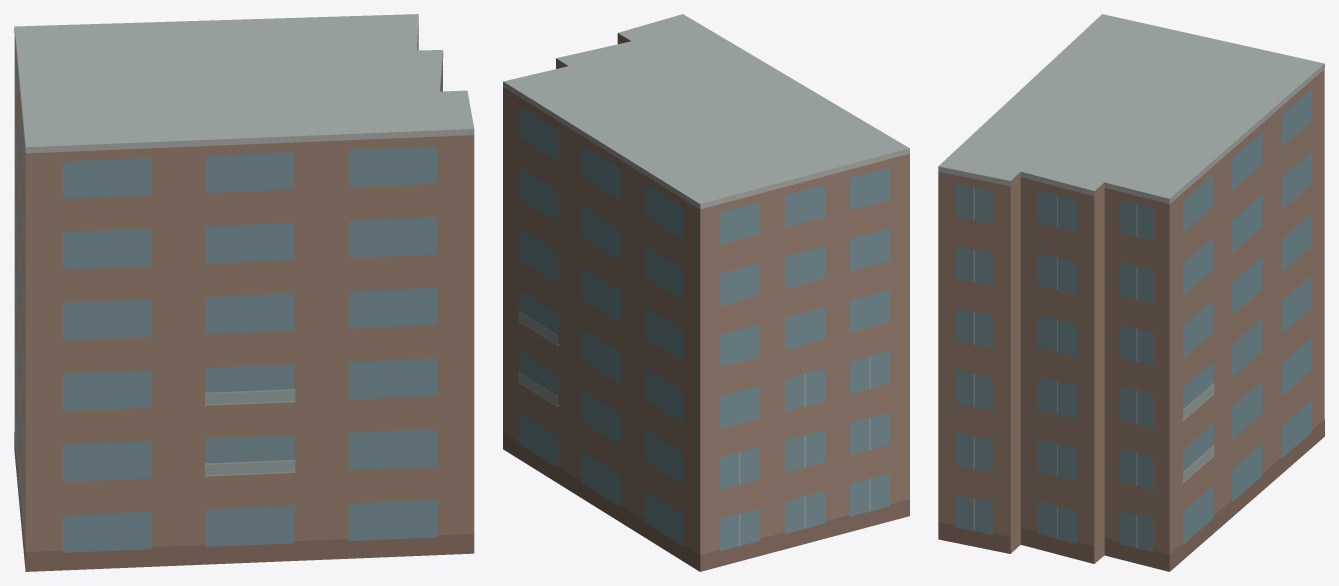
File: survey-upis-32913458.glb
The picture shows the model from 3 angles, left to right: view 1: azimuth 30°, elevation 25°; view 2: azimuth 150°, elevation 25°; view 3: azimuth 270°, elevation 25°; orthographic projection. The views are drawn at different scales.
Parts seen in each view (by area): view 1: survey-upis-32913458.tmp; view 2: survey-upis-32913458.tmp; view 3: survey-upis-32913458.tmp.
Part boxes in pixels (x1,y1,x2,y2): survey-upis-32913458.tmp: (14,14,474,571); survey-upis-32913458.tmp: (503,14,909,571); survey-upis-32913458.tmp: (938,14,1324,571).
Bounding box in the file's own units: 17.97 × 16.9 × 15.88.
